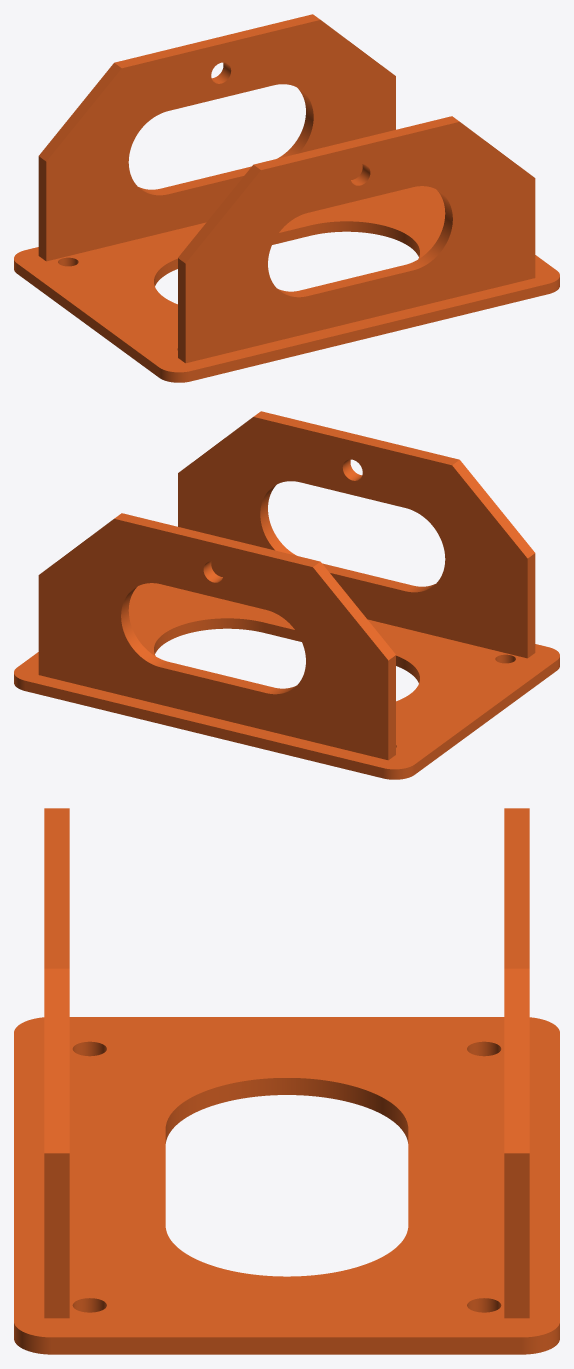
3 renders of one model, top to bottom at view 1: azimuth 30°, elevation 25°; view 2: azimuth 150°, elevation 25°; view 3: azimuth 270°, elevation 25°, orthographic. The views are drawn at different scales.
Parts seen in each view (by area): view 1: cradle_0; view 2: cradle_0; view 3: cradle_0.
Part boxes in pixels (x1,y1,x2,y2): cradle_0: [14, 14, 559, 382]; cradle_0: [14, 411, 559, 779]; cradle_0: [14, 808, 559, 1354].
Bounding box in the file's own units: 100 × 44.5 × 72.
